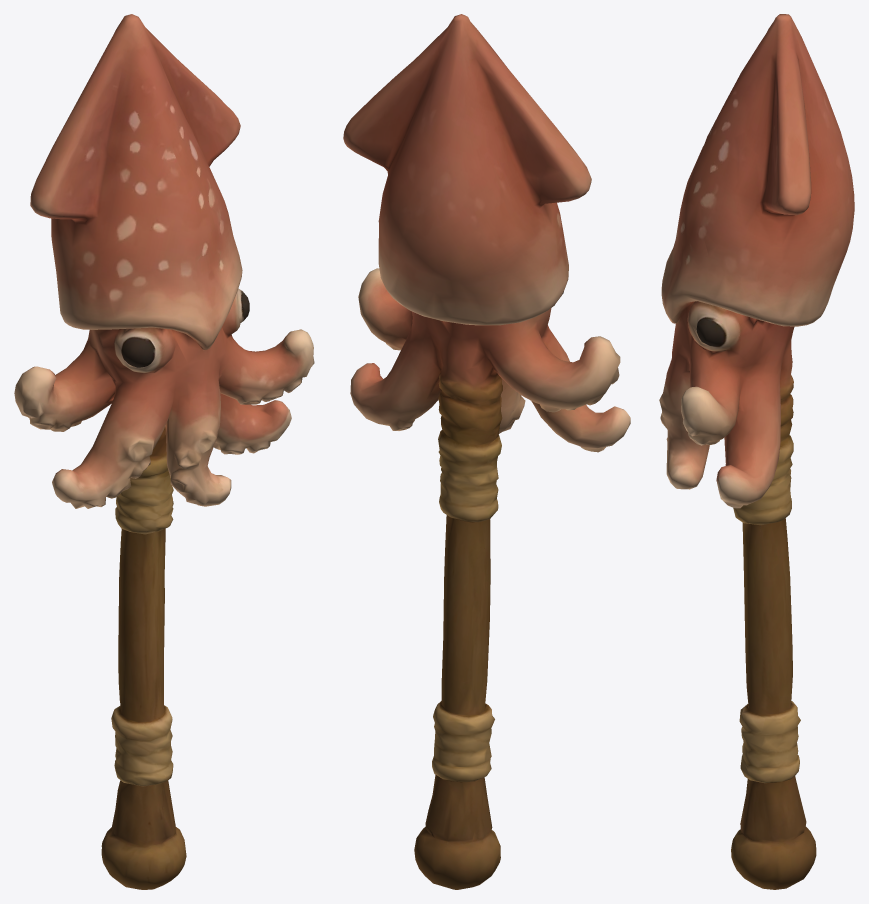
File: ika_spear.glb
3 views of the same model, side by side, from view 1: azimuth 30°, elevation 25°; view 2: azimuth 150°, elevation 25°; view 3: azimuth 270°, elevation 25° (orthographic).
Visible parts, largest first — view 1: tripo_node_a3ef618f-500b-4a76-98bc-a0285bb786b9; view 2: tripo_node_a3ef618f-500b-4a76-98bc-a0285bb786b9; view 3: tripo_node_a3ef618f-500b-4a76-98bc-a0285bb786b9.
Boxes of the visible parts, x1=… form: tripo_node_a3ef618f-500b-4a76-98bc-a0285bb786b9: x1=14, y1=14, x2=314, y2=889; tripo_node_a3ef618f-500b-4a76-98bc-a0285bb786b9: x1=343, y1=14, x2=630, y2=889; tripo_node_a3ef618f-500b-4a76-98bc-a0285bb786b9: x1=659, y1=14, x2=854, y2=889.
Bounding box in the file's own units: 0.3285 × 1 × 0.2045.
Materials: 1 (1 with a texture image).
